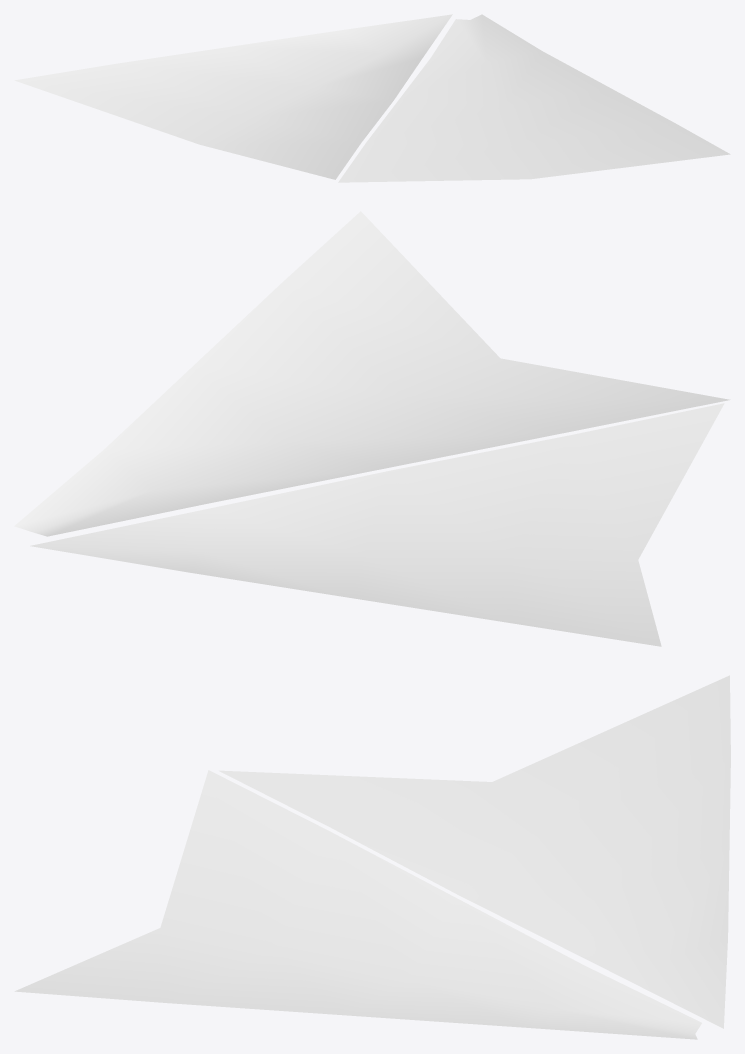
Rendered from SM_Bld_Window_Net_Corner_01.glb.
3 views of the same model, one above another, from view 1: azimuth 30°, elevation 25°; view 2: azimuth 150°, elevation 25°; view 3: azimuth 270°, elevation 25° (orthographic). The views are drawn at different scales.
Visible parts, largest first — view 1: SM_Bld_Window_Net_Corner_01; view 2: SM_Bld_Window_Net_Corner_01; view 3: SM_Bld_Window_Net_Corner_01.
Boxes of the visible parts, x1,y1,x2,y2 form: SM_Bld_Window_Net_Corner_01: (14, 14, 730, 182); SM_Bld_Window_Net_Corner_01: (14, 211, 730, 646); SM_Bld_Window_Net_Corner_01: (14, 675, 730, 1039).
Size of the model in its own units: 3.76 by 0.3026 by 3.61.
Materials: 1 (1 with a texture image).
